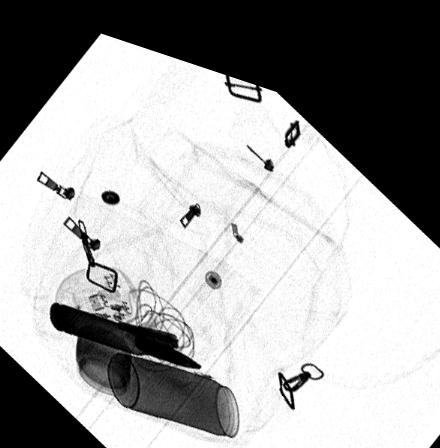Bullet: (47, 296, 203, 356)
